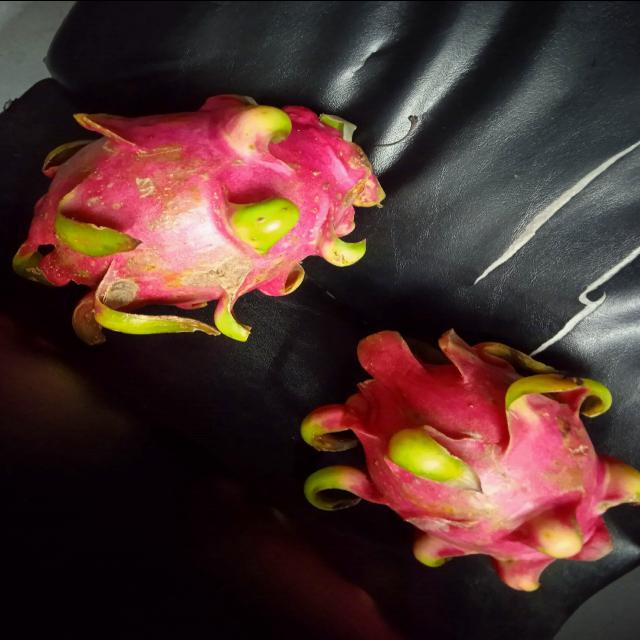do: (6, 95, 392, 351), (302, 328, 639, 593)
